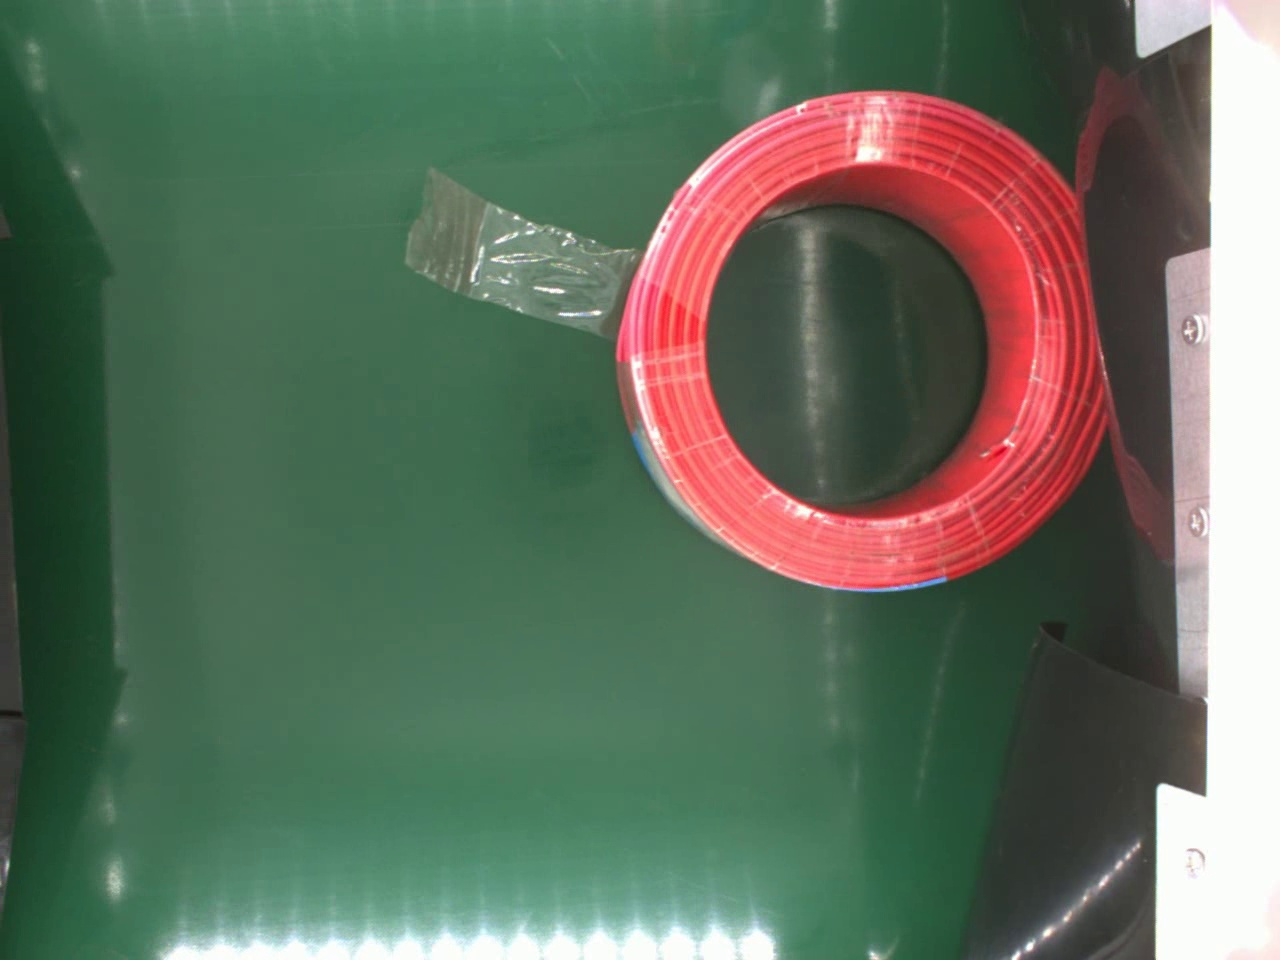red: (608, 86, 1107, 600)
